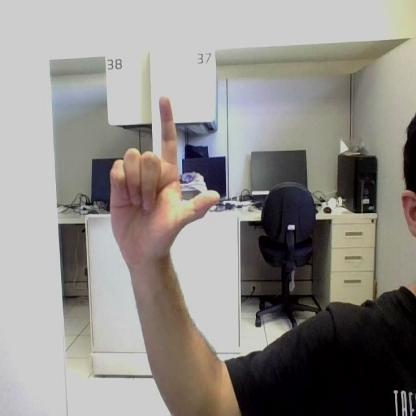L: (110, 97, 218, 255)
